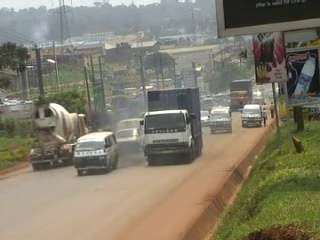Car: (199, 108, 212, 128)
